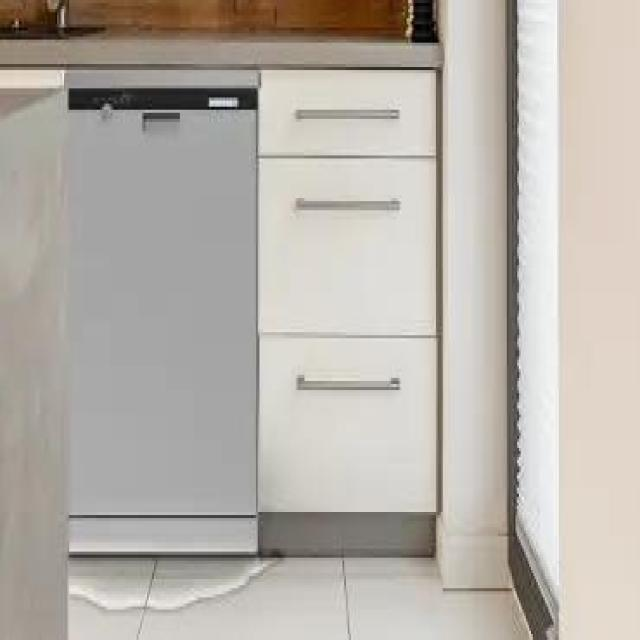dishwasher: (66, 58, 265, 569)
